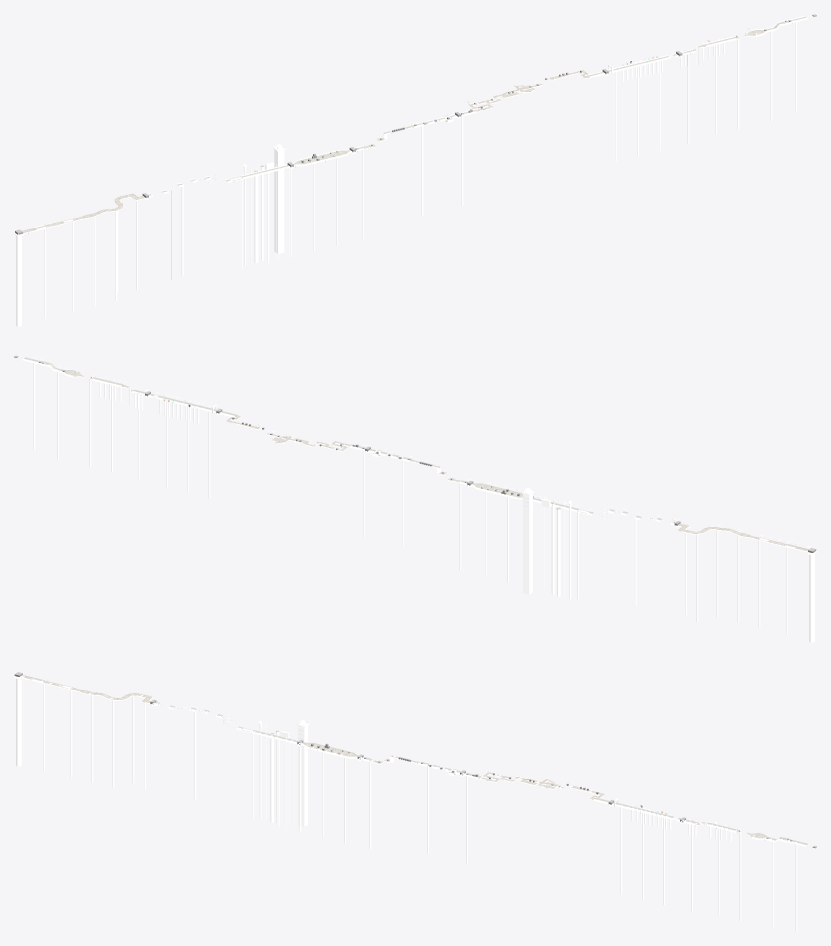
File: level.gltf
The picture shows the model from 3 angles, top to bottom: view 1: azimuth 30°, elevation 25°; view 2: azimuth 150°, elevation 25°; view 3: azimuth 330°, elevation 25°; orthographic projection. The views are drawn at different scales.
Visible parts, largest first — view 1: Lighthouse_01_Deep; view 2: Lighthouse_01_Deep, Start_Tower; view 3: Lighthouse_01_Deep, Start_Tower.
Boxes of the visible parts, box(x1,y1,x2,y2) form: Lighthouse_01_Deep: box(274, 166, 284, 253); Lighthouse_01_Deep: box(523, 509, 532, 594); Start_Tower: box(809, 554, 814, 642); Lighthouse_01_Deep: box(298, 741, 307, 826); Start_Tower: box(16, 678, 21, 766).
Size of the model in its own units: 2252 by 301 by 131.
